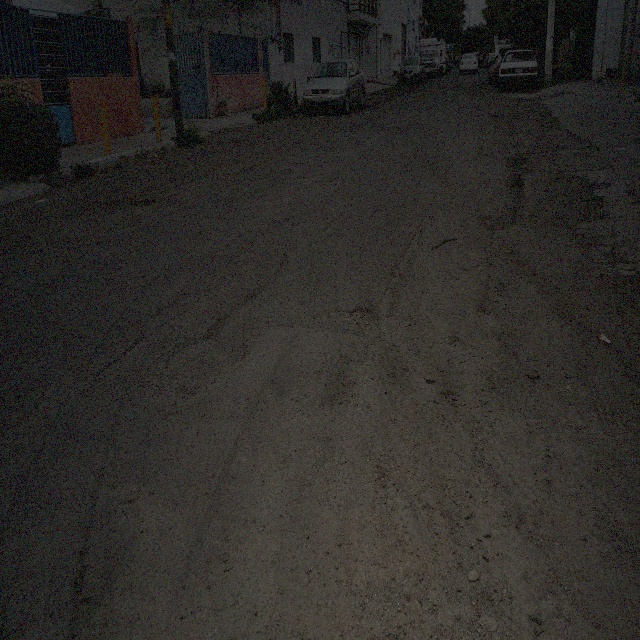pothole: (340, 305, 380, 345)
